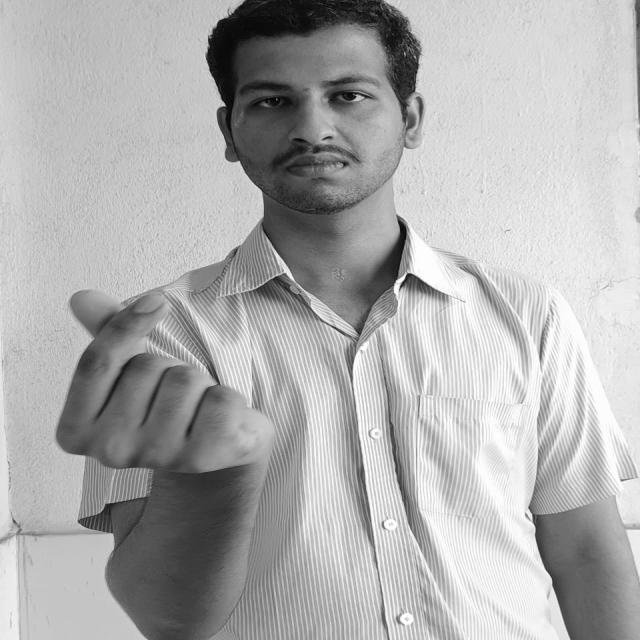Grattitude: (56, 289, 277, 474)
